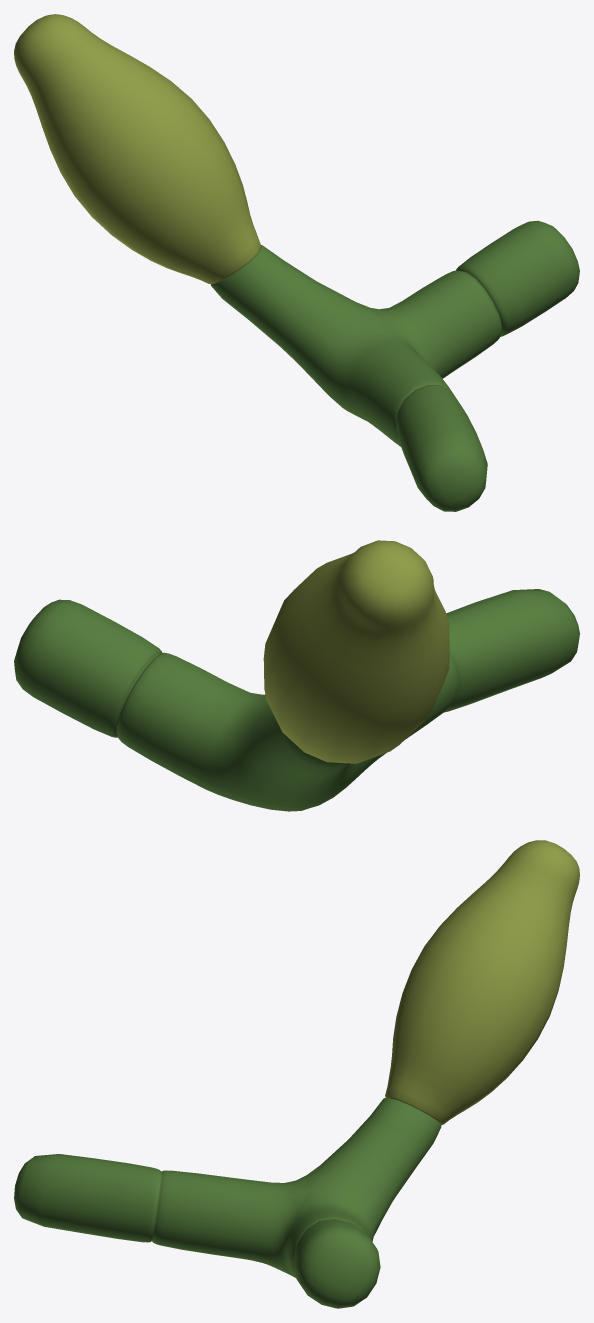
File: spore_bit_one.fbx
3 views of the same model, one above another, from view 1: azimuth 30°, elevation 25°; view 2: azimuth 150°, elevation 25°; view 3: azimuth 270°, elevation 25° (orthographic). The views are drawn at different scales.
Parts seen in each view (by area): view 1: spore bit one; view 2: spore bit one; view 3: spore bit one.
Part boxes in pixels (x1,y1,x2,y2): spore bit one: (14,14,579,511); spore bit one: (14,540,579,811); spore bit one: (14,840,579,1308).
Bounding box in the file's own units: 503 × 384 × 584.
